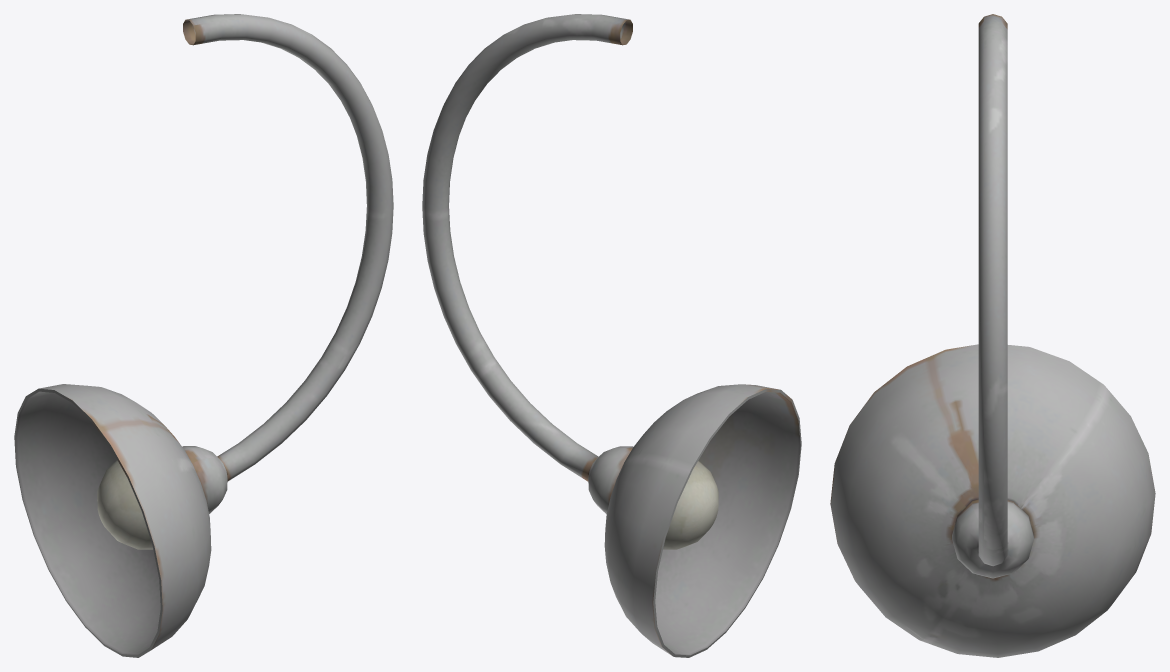
File: props_gameplay_security_fence_light01.glb
3 views of the same model, side by side, from view 1: azimuth 30°, elevation 25°; view 2: azimuth 150°, elevation 25°; view 3: azimuth 270°, elevation 25° (orthographic). The views are drawn at different scales.
Visible parts, largest first — view 1: models/props_gameplay/security_fence_light01; view 2: models/props_gameplay/security_fence_light01; view 3: models/props_gameplay/security_fence_light01.
Part boxes in pixels (x1,y1,x2,y2): models/props_gameplay/security_fence_light01: (14,14,393,657); models/props_gameplay/security_fence_light01: (422,14,801,657); models/props_gameplay/security_fence_light01: (830,14,1155,657).
Bounding box in the file's own units: 47.67 × 85.98 × 36.94.
1 material, 1 textured.
